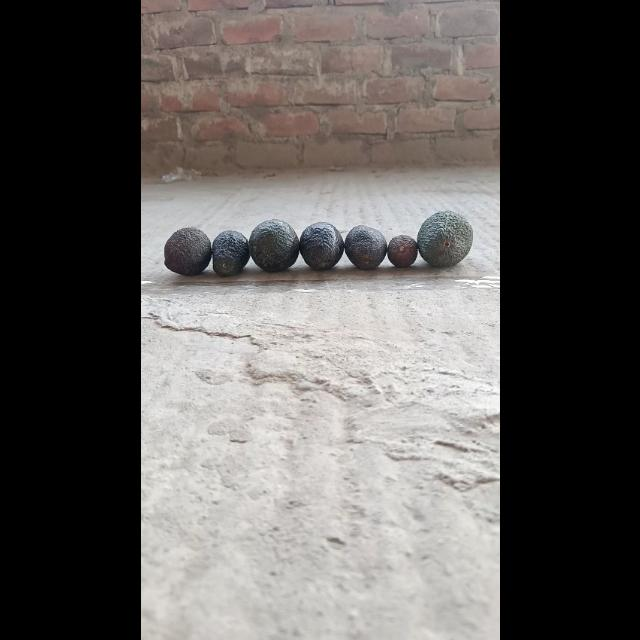Primera: (416, 210, 472, 266), (248, 219, 298, 271)
Segunda: (161, 226, 211, 276), (298, 222, 342, 270), (343, 224, 387, 270), (210, 230, 250, 276)
Tercera: (386, 234, 418, 268)
